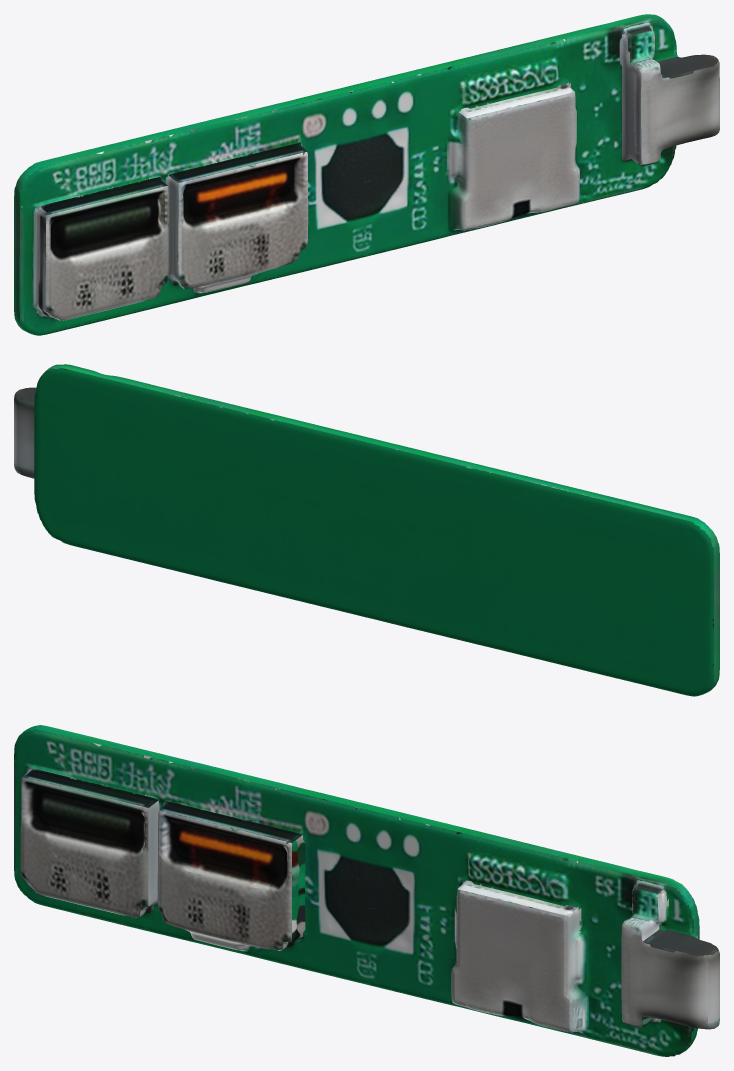
Rendered from thunderbolt-ports.glb.
3 renders of one model, top to bottom at view 1: azimuth 30°, elevation 25°; view 2: azimuth 150°, elevation 25°; view 3: azimuth 330°, elevation 25°, orthographic. The views are drawn at different scales.
Visible parts, largest first — view 1: tmpx53x3d09.ply; view 2: tmpx53x3d09.ply; view 3: tmpx53x3d09.ply.
Part boxes in pixels (left/top/right/bottom): tmpx53x3d09.ply: left=14, top=14, right=719, bottom=335; tmpx53x3d09.ply: left=14, top=364, right=719, bottom=696; tmpx53x3d09.ply: left=14, top=725, right=719, bottom=1056.
Bounding box in the file's own units: 0.988 × 0.2352 × 0.0628.
Materials: 1 (1 with a texture image).
